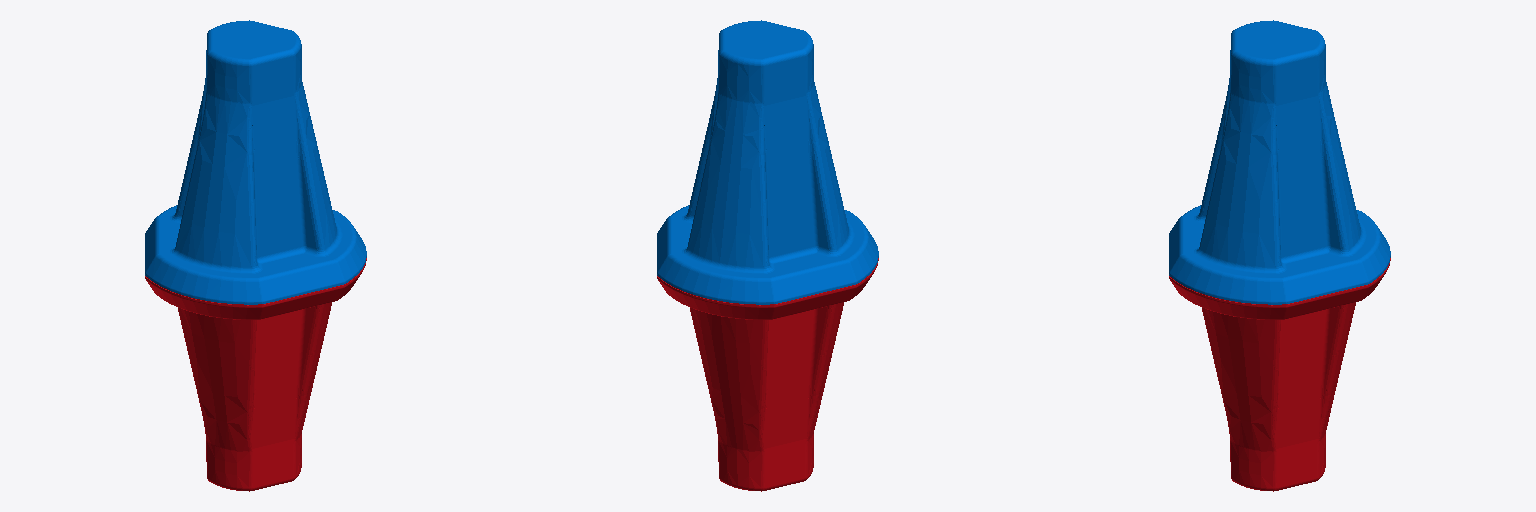
robot.urdf — override_pin_blue_red:
<?xml version='1.0' encoding='utf-8'?>
<robot name="override_pin_blue_red">
  <link name="pin">
    <inertial>
      <mass value="0.075" />
      <origin xyz="0 0 0" rpy="0 0 0" />
      <inertia ixx="0.000183825" iyy="0.000183825" izz="0.000183825" ixy="0" ixz="0" iyz="0" />
    </inertial>
    <visual>
      <geometry>
        <mesh filename="../meshes/override/pin_upper.obj" />
      </geometry>
      <material name=".._meshes_override_pin_upper.obj">
        <color rgba=".02 .48 .83 1" />
      </material>
    </visual>
    <visual>
      <geometry>
        <mesh filename="../meshes/override/pin_lower.obj" />
      </geometry>
      <material name=".._meshes_override_pin_lower.obj">
        <color rgba=".82 .08 .13 1" />
      </material>
    </visual>
    <collision>
      <geometry>
        <mesh filename="pin_root_-1_band_0.stl" />
      </geometry>
    </collision>
    <collision>
      <geometry>
        <mesh filename="pin_root_-1_band_1.stl" />
      </geometry>
    </collision>
    <collision>
      <geometry>
        <mesh filename="pin_root_-1_band_2.stl" />
      </geometry>
    </collision>
    <collision>
      <geometry>
        <mesh filename="pin_root_-1_band_3.stl" />
      </geometry>
    </collision>
    <collision>
      <geometry>
        <mesh filename="pin_root_1_band_0.stl" />
      </geometry>
    </collision>
    <collision>
      <geometry>
        <mesh filename="pin_root_1_band_1.stl" />
      </geometry>
    </collision>
    <collision>
      <geometry>
        <mesh filename="pin_root_1_band_2.stl" />
      </geometry>
    </collision>
    <collision>
      <geometry>
        <mesh filename="pin_root_1_band_3.stl" />
      </geometry>
    </collision>
    <collision>
      <geometry>
        <mesh filename="pin_taper_-1.stl" />
      </geometry>
    </collision>
    <collision>
      <geometry>
        <mesh filename="pin_taper_1.stl" />
      </geometry>
    </collision>
    <collision>
      <geometry>
        <mesh filename="pin_tip_-1.stl" />
      </geometry>
    </collision>
    <collision>
      <geometry>
        <mesh filename="pin_tip_1.stl" />
      </geometry>
    </collision>
    <collision>
      <geometry>
        <mesh filename="pin_flange.stl" />
      </geometry>
    </collision>
  </link>
</robot>

--- Render facts (derived) ---
Views: 3 orthographic renders of the robot side by side, from view 1: azimuth 30°, elevation 25°; view 2: azimuth 150°, elevation 25°; view 3: azimuth 270°, elevation 25°.
Robot: override_pin_blue_red — 1 links, 0 joints (none); root link pin; default pose: all joints at 0.
Links seen in each view (by area): view 1: pin; view 2: pin; view 3: pin.
Boxes of the visible links, bbox=[...] form: pin: bbox=[145, 20, 366, 491]; pin: bbox=[657, 20, 878, 491]; pin: bbox=[1169, 20, 1390, 491].
Bounding box of the posed robot: 0.0803 × 0.0768 × 0.165 m (x, y, z).
2 mesh visuals loaded from 2 distinct referenced files (2 OBJ).
